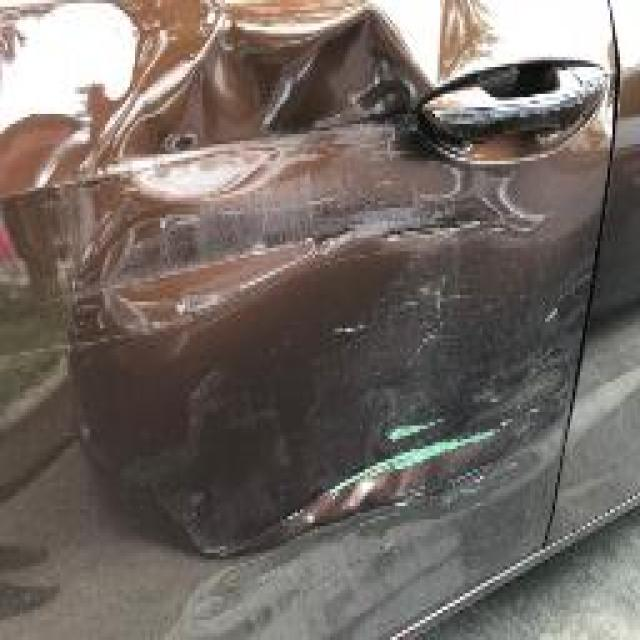Door: (45, 0, 538, 640)
